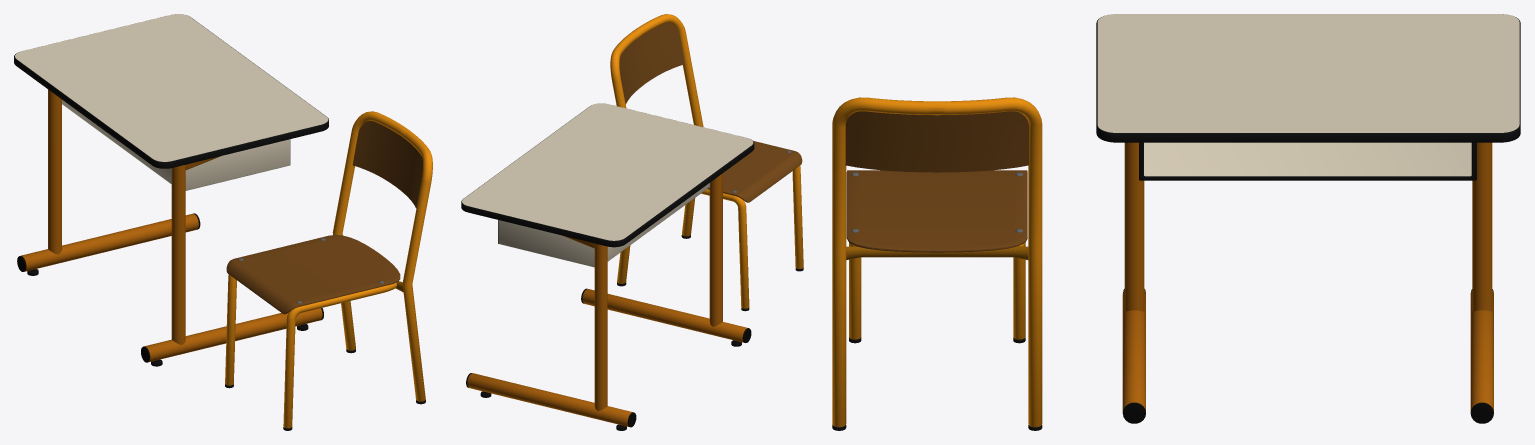
File: Classroom_ChairDesk.fbx
3 views of the same model, side by side, from view 1: azimuth 30°, elevation 25°; view 2: azimuth 150°, elevation 25°; view 3: azimuth 270°, elevation 25° (orthographic). The views are drawn at different scales.
Visible parts, largest first — view 1: Rectangle707, Rectangle708; view 2: Rectangle707, Rectangle708; view 3: Rectangle707, Rectangle708.
Part boxes in pixels (bbox=[...]): Rectangle707: bbox=[14, 14, 328, 366]; Rectangle708: bbox=[225, 111, 432, 430]; Rectangle707: bbox=[461, 103, 754, 430]; Rectangle708: bbox=[610, 14, 803, 311]; Rectangle707: bbox=[1096, 14, 1520, 423]; Rectangle708: bbox=[832, 97, 1042, 430].
Size of the model in its own units: 59.95 by 70.76 by 130.
